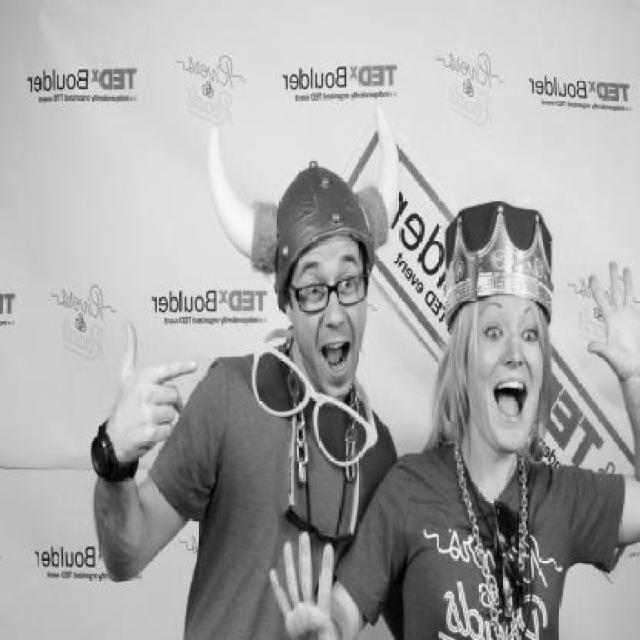face_nomask: (467, 304, 556, 433), (293, 251, 375, 369)
glasses: (251, 322, 378, 467)
hand_noglove: (60, 311, 208, 469), (263, 527, 378, 640), (560, 251, 640, 389)
head_helmet: (207, 118, 416, 274)
person: (74, 123, 429, 640), (260, 183, 638, 640)
